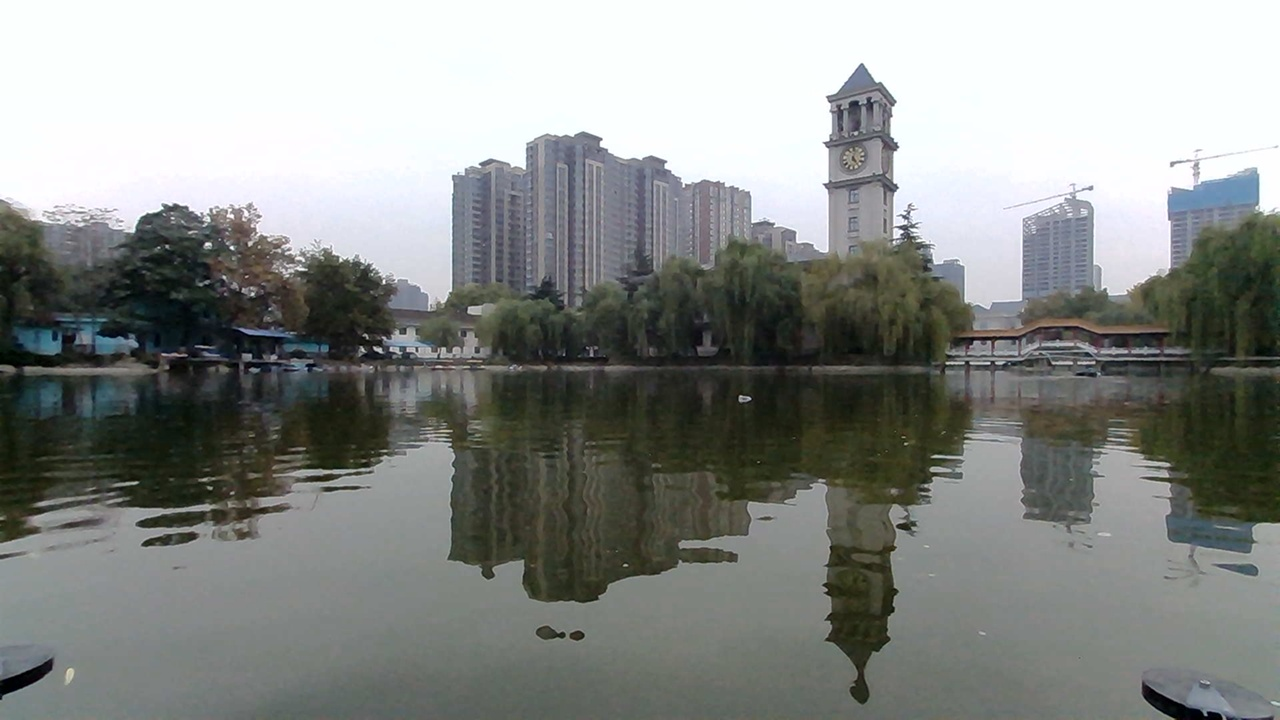bottle: (724, 382, 763, 412)
